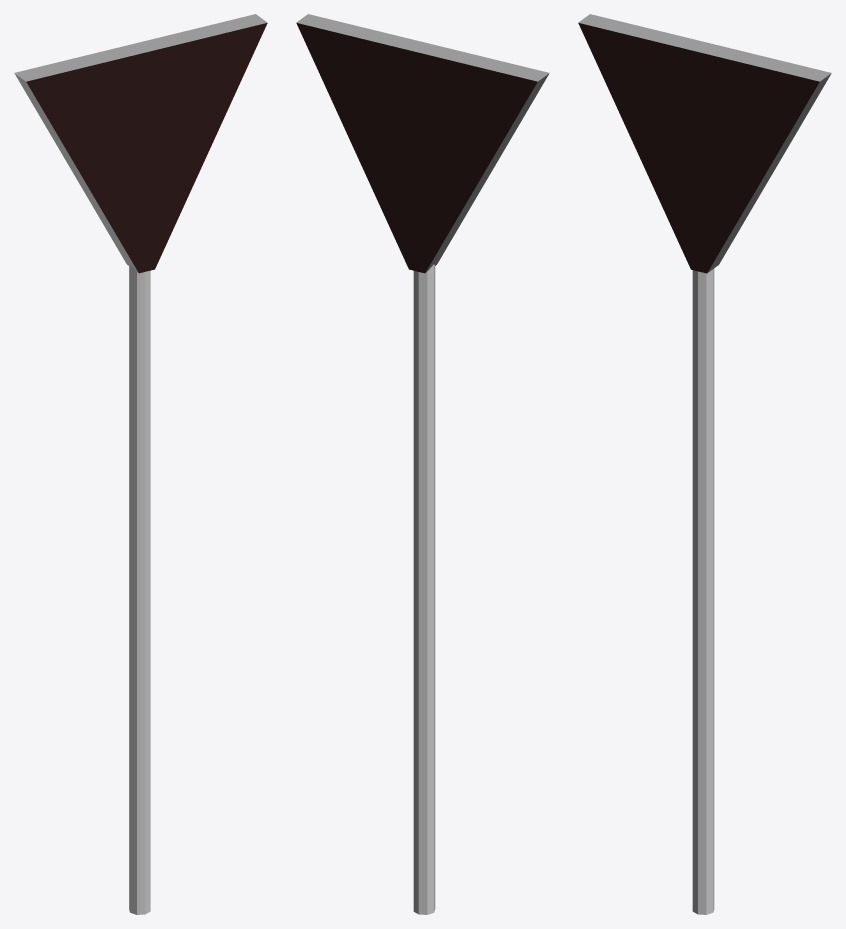
The model's file is Panneau2.fbx.
3 renders of one model, left to right at view 1: azimuth 30°, elevation 25°; view 2: azimuth 150°, elevation 25°; view 3: azimuth 330°, elevation 25°, orthographic.
Visible parts, largest first — view 1: pCube3, pCylinder6; view 2: pCube3, pCylinder6; view 3: pCube3, pCylinder6.
Part boxes in pixels (left/top/right/bottom): pCube3: left=14, top=14, right=267, bottom=273; pCylinder6: left=129, top=264, right=150, bottom=914; pCube3: left=296, top=14, right=549, bottom=273; pCylinder6: left=413, top=264, right=435, bottom=914; pCube3: left=578, top=14, right=831, bottom=273; pCylinder6: left=692, top=268, right=714, bottom=914.
Bounding box in the file's own units: 4.82 × 16.44 × 0.4129.
